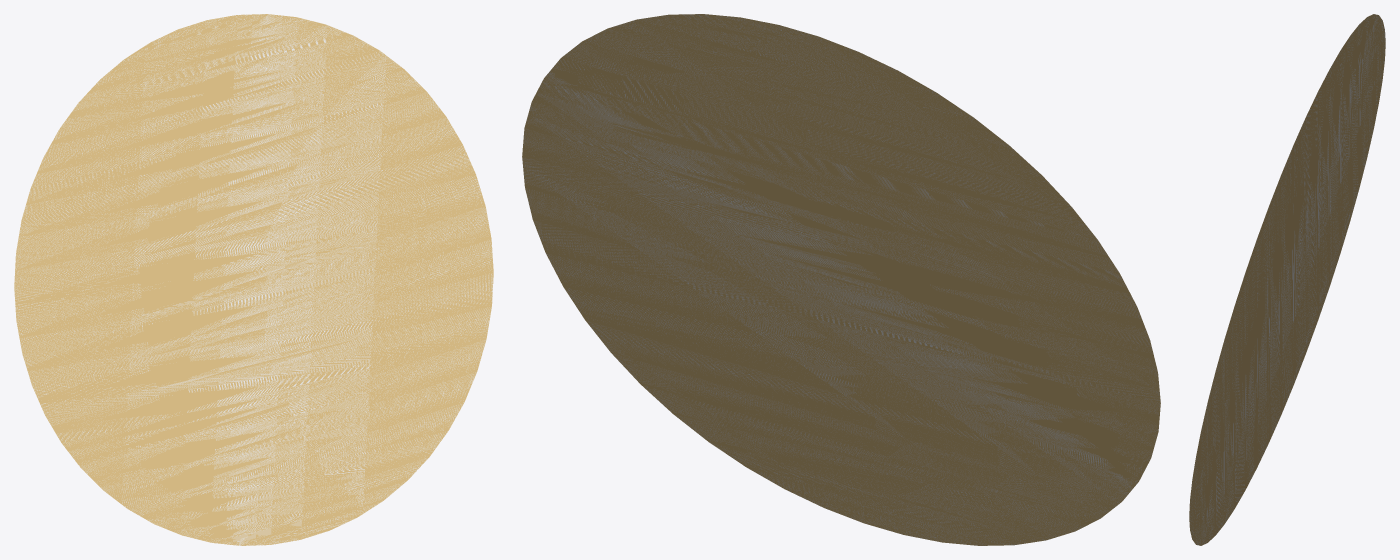
Rendered from original-99.obj.
3 renders of one model, left to right at view 1: azimuth 30°, elevation 25°; view 2: azimuth 150°, elevation 25°; view 3: azimuth 270°, elevation 25°, orthographic. The views are drawn at different scales.
Visible parts, largest first — view 1: #ID737; view 2: #ID737; view 3: #ID737.
Part boxes in pixels (x1,y1,x2,y2): #ID737: (14, 14, 493, 545); #ID737: (522, 14, 1160, 545); #ID737: (1189, 14, 1385, 545).
Size of the model in its own units: 0.0679 by 0.0624 by 0.0234.
